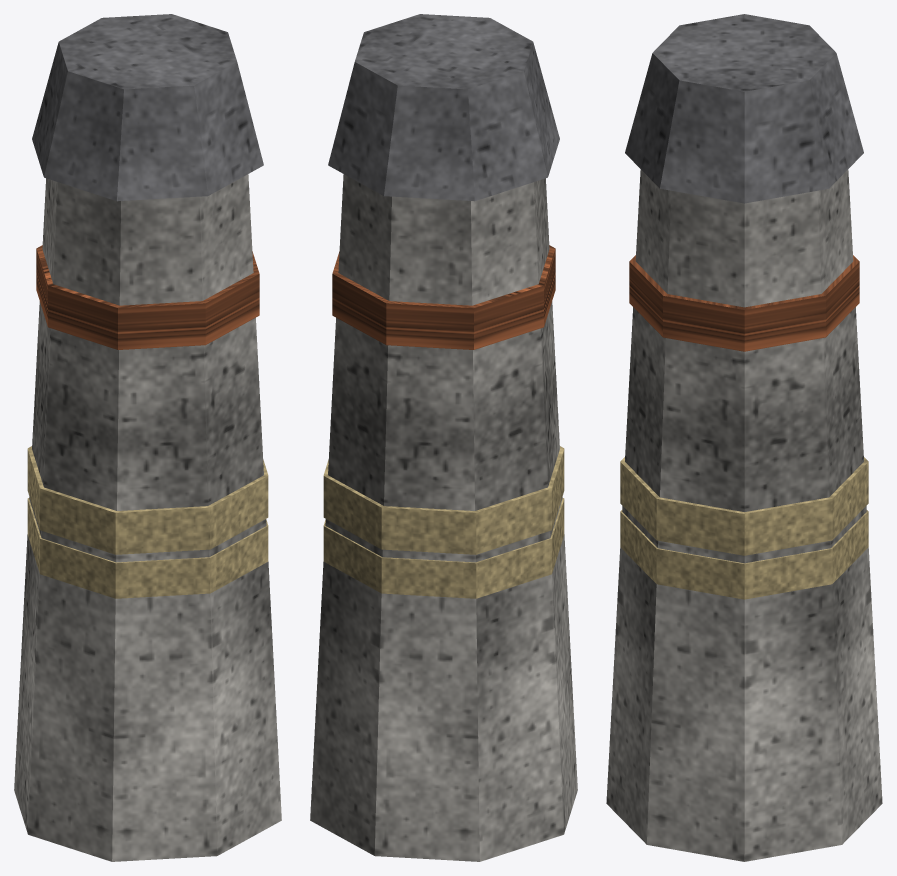
File: mooring_post.fbx
3 renders of one model, left to right at view 1: azimuth 30°, elevation 25°; view 2: azimuth 150°, elevation 25°; view 3: azimuth 270°, elevation 25°, orthographic.
Visible parts, largest first — view 1: mooring_post; view 2: mooring_post; view 3: mooring_post.
Part boxes in pixels (box(x1,y1,x2,y2)): mooring_post: box(14, 14, 281, 861); mooring_post: box(310, 14, 577, 861); mooring_post: box(606, 14, 882, 861).
Size of the model in its own units: 30 by 90 by 30.
